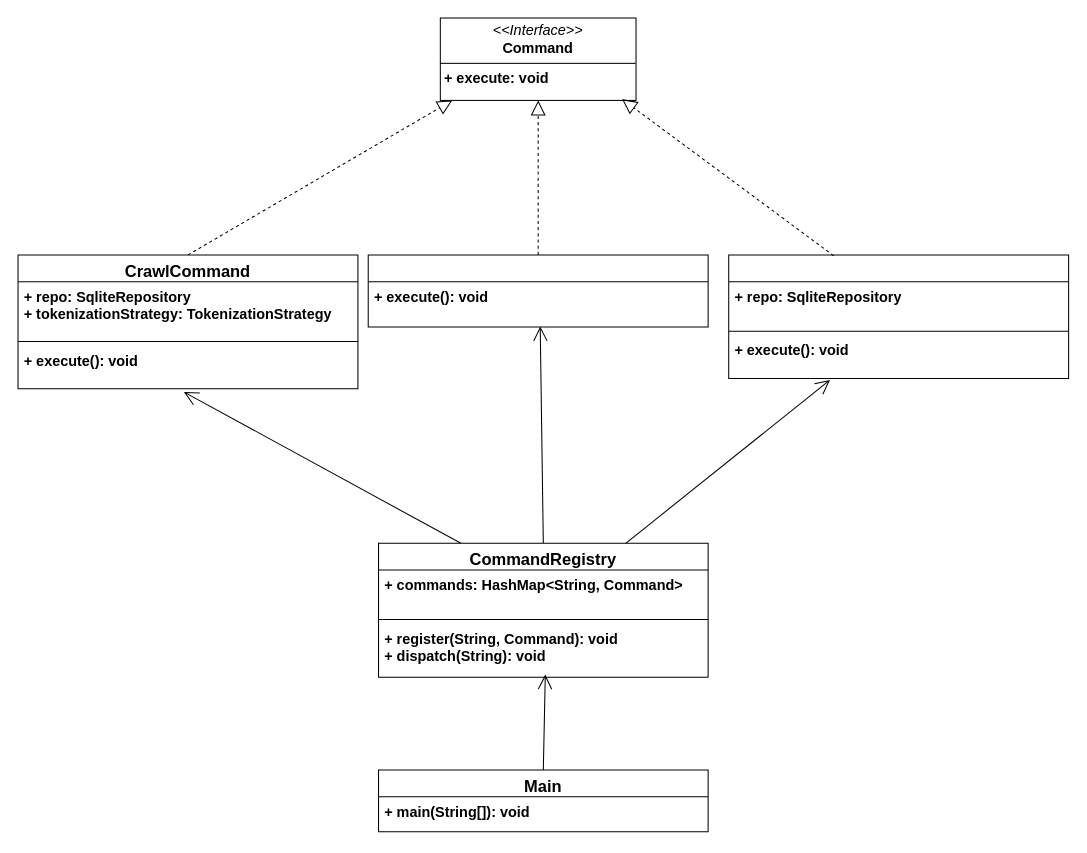
This 1087x853 diagram has some shape labels left out. The box of each missing label's shape, as (x1, y1, x2, y2) in pixels:
HelpCommand: (367, 254, 708, 327)
SearchCommand: (728, 254, 1069, 379)
